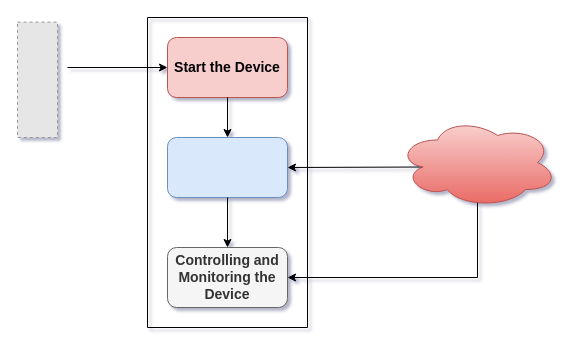
Some shapes in this 581 by 352 pixel diagram are drawn without their labels. Grey dashed boxes stand in for pictures. Each missing label, with the centre of its shape:
Configuration of the Device: point 227,167
Microntroller: point 477,162
